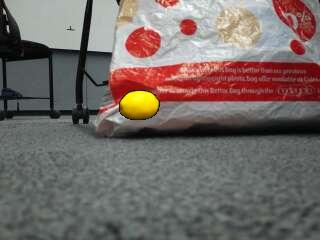lemon: (120, 91, 158, 119)
